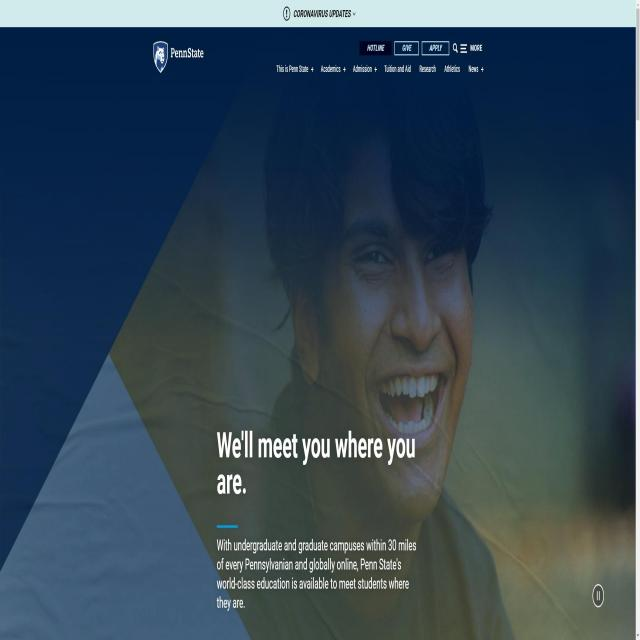button: (394, 40, 419, 56)
select: (279, 4, 359, 23), (275, 60, 315, 76), (319, 60, 346, 76), (351, 62, 378, 76), (467, 62, 486, 76)
